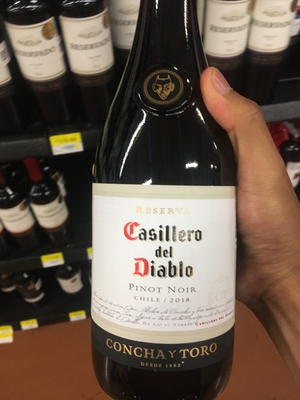casillero del diablo pinot noir: (76, 24, 260, 400)
